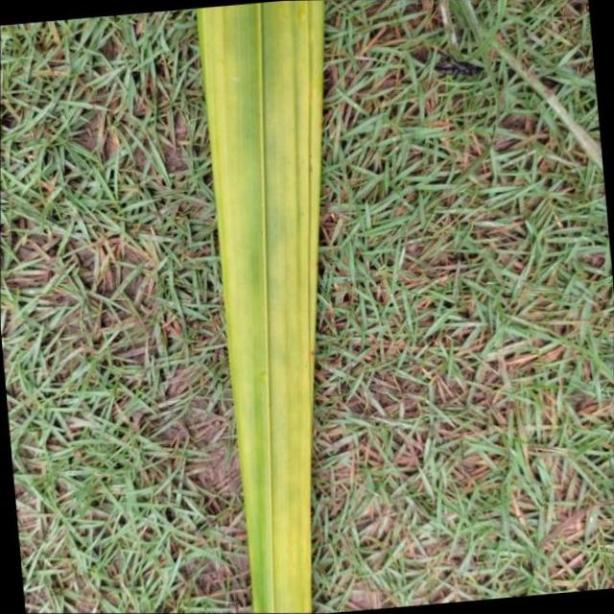nitrogen: (195, 0, 321, 614)
